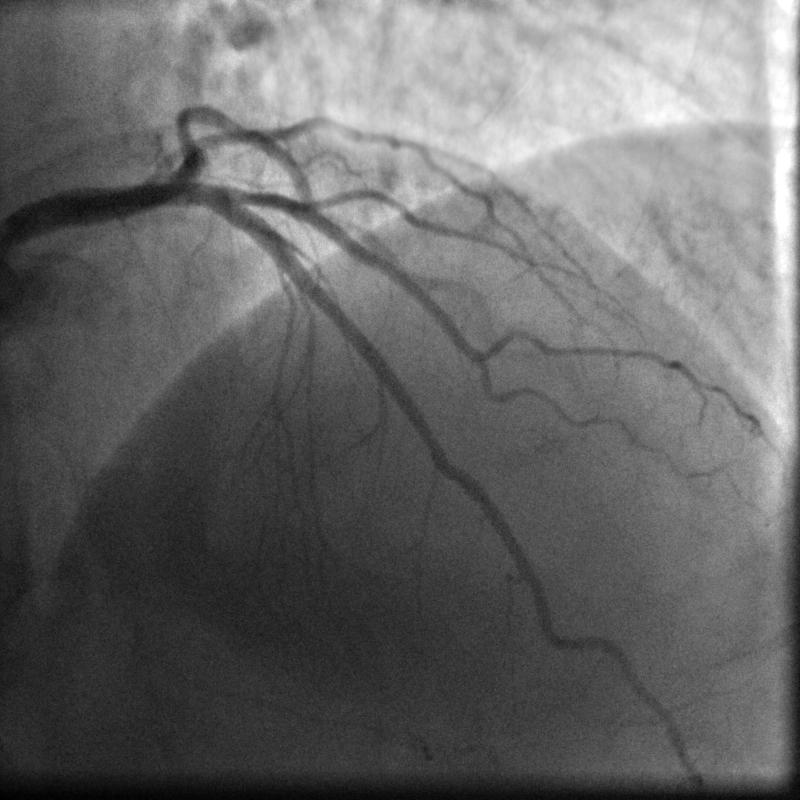Stenosis: (434, 439, 471, 490)
